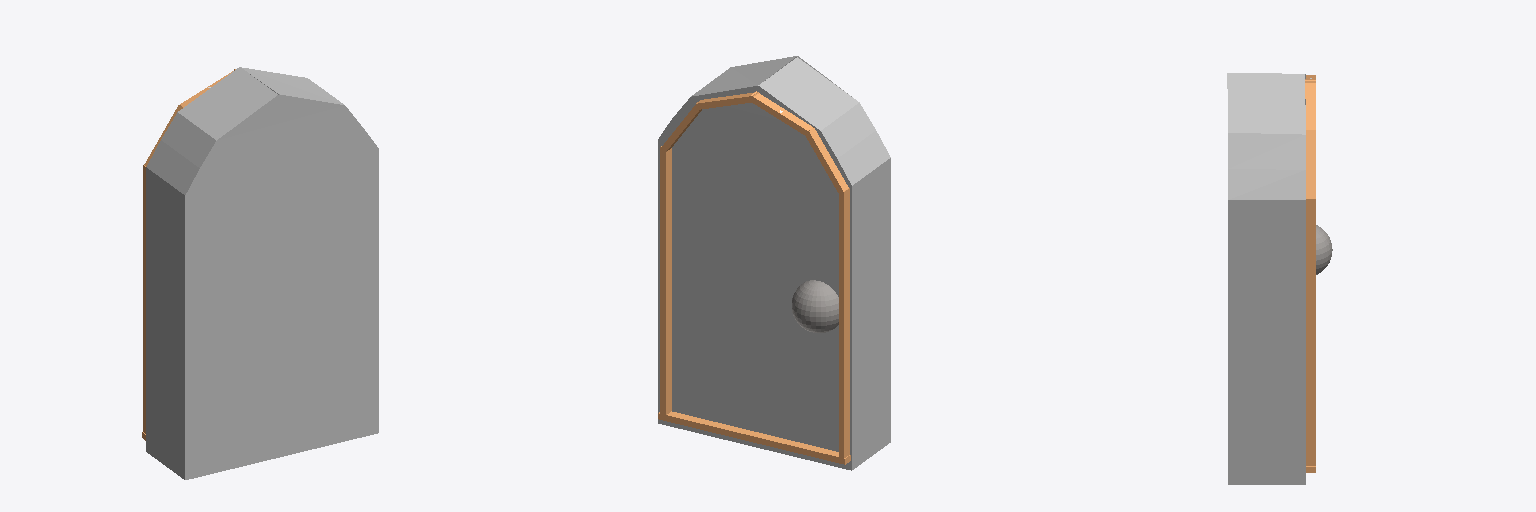
The picture shows the model from 3 angles: view 1: azimuth 30°, elevation 25°; view 2: azimuth 150°, elevation 25°; view 3: azimuth 270°, elevation 25°; orthographic projection.
Visible parts, largest first — view 1: 立方体.001; view 2: 立方体.001; view 3: 立方体.001.
Boxes of the visible parts, x1=… form: 立方体.001: x1=142, y1=67, x2=378, y2=479; 立方体.001: x1=658, y1=56, x2=890, y2=470; 立方体.001: x1=1227, y1=73, x2=1332, y2=484.
Bounding box in the file's own units: 0.8056 × 1.45 × 0.3791.
2 materials, 1 textured.